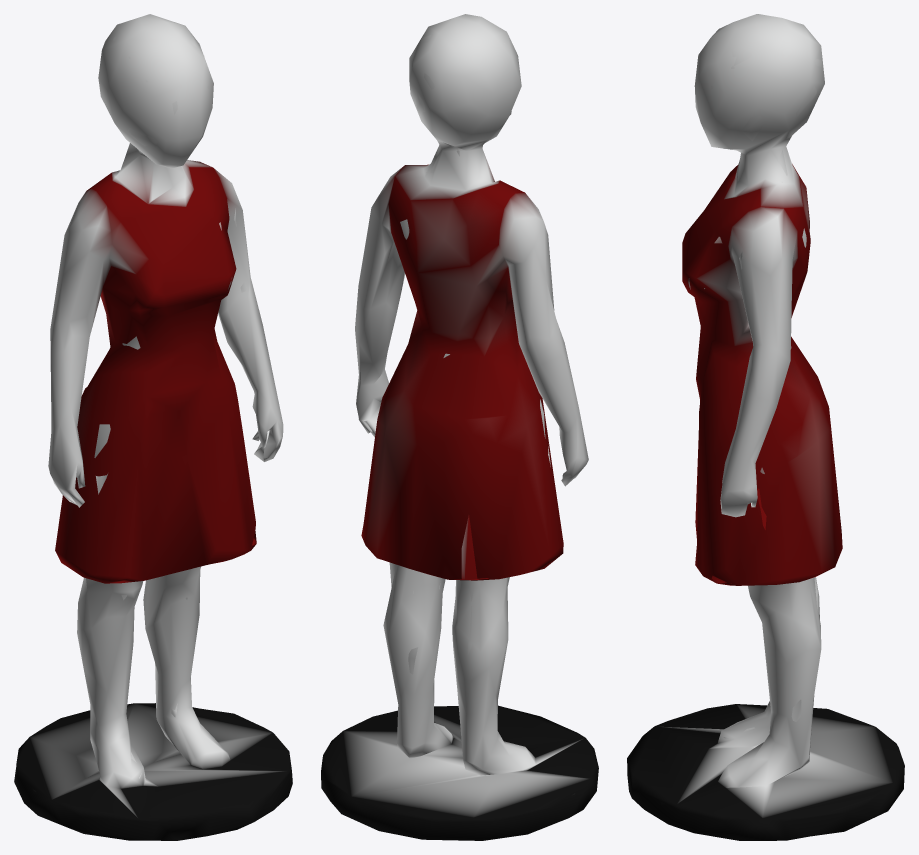
Rendered from gen3d-mannequin-lod1.glb.
3 views of the same model, side by side, from view 1: azimuth 30°, elevation 25°; view 2: azimuth 150°, elevation 25°; view 3: azimuth 270°, elevation 25° (orthographic).
Visible parts, largest first — view 1: part_0; view 2: part_0; view 3: part_0.
Part boxes in pixels (x1=…): part_0: x1=14, y1=14, x2=292, y2=840; part_0: x1=321, y1=14, x2=598, y2=840; part_0: x1=627, y1=14, x2=904, y2=840.
Bounding box in the file's own units: 0.3278 × 0.9985 × 0.3291.
